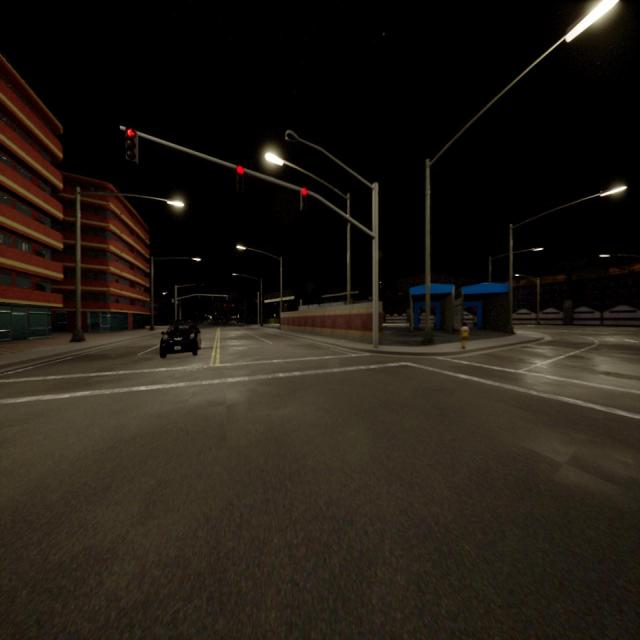Pedestrian: (460, 322, 469, 349)
Vehicle: (160, 321, 201, 357)
traffic_light: (126, 128, 138, 164), (236, 166, 244, 191), (301, 188, 307, 210), (226, 297, 228, 300), (224, 304, 226, 306), (232, 304, 234, 306), (212, 296, 213, 299), (199, 296, 200, 298)
